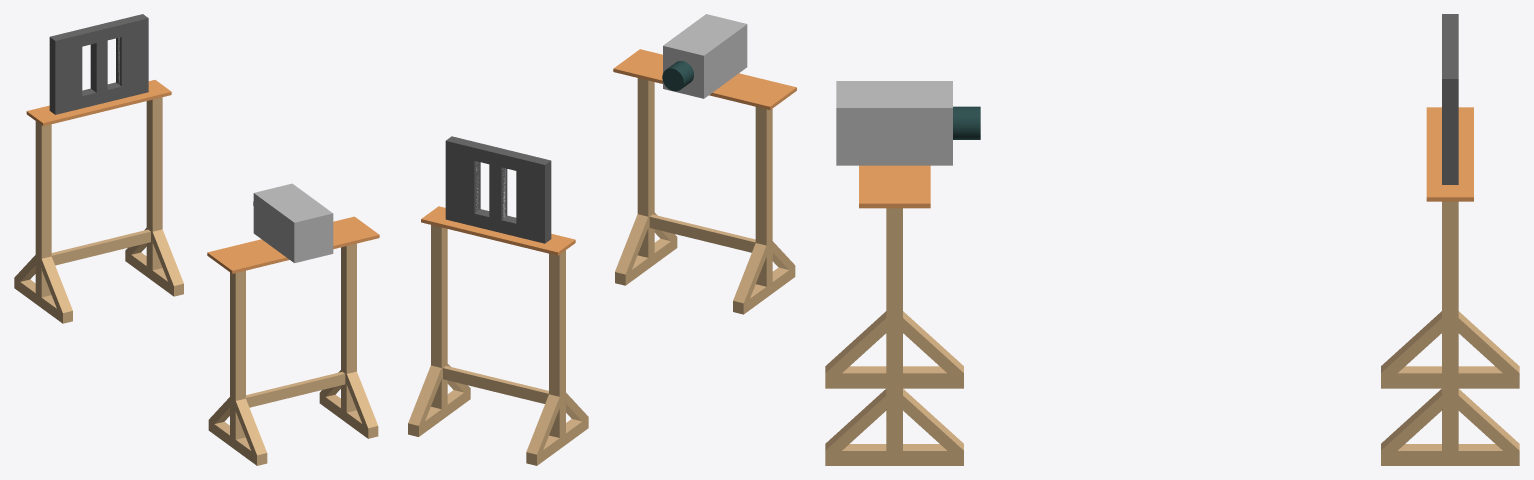
Rendered from Doppelspalt-Experiment.gltf.
3 views of the same model, side by side, from view 1: azimuth 30°, elevation 25°; view 2: azimuth 150°, elevation 25°; view 3: azimuth 270°, elevation 25° (orthographic). The views are drawn at different scales.
Parts seen in each view (by area): view 1: Body1 (×2), KastenMitÖffnungen, Body2, Body1:1, Bodenplatte; view 2: Body1 (×2), KastenMitÖffnungen, Body2, Body1:1, Bodenplatte, Body3; view 3: Body1 (×2), Body2, Bodenplatte, Body1:1, KastenMitÖffnungen, Body3.
Part boxes in pixels (x1,y1,x2,y2): Body1 (×2): (14, 97, 378, 465); KastenMitÖffnungen: (49, 14, 148, 114); Body2: (253, 183, 333, 263); Body1:1: (207, 216, 379, 273); Bodenplatte: (26, 80, 171, 126); Body1 (×2): (408, 78, 795, 465); KastenMitÖffnungen: (445, 136, 551, 243); Body2: (663, 14, 747, 98); Body1:1: (613, 49, 796, 109); Bodenplatte: (421, 206, 575, 255); Body3: (662, 61, 693, 91); Body1 (×2): (825, 201, 1519, 465); Body2: (836, 81, 952, 165); Bodenplatte: (1426, 107, 1473, 201); Body1:1: (859, 165, 930, 208); KastenMitÖffnungen: (1442, 14, 1458, 184); Body3: (953, 106, 980, 139).
Size of the model in its own units: 0.876 by 1.5 by 2.5.
